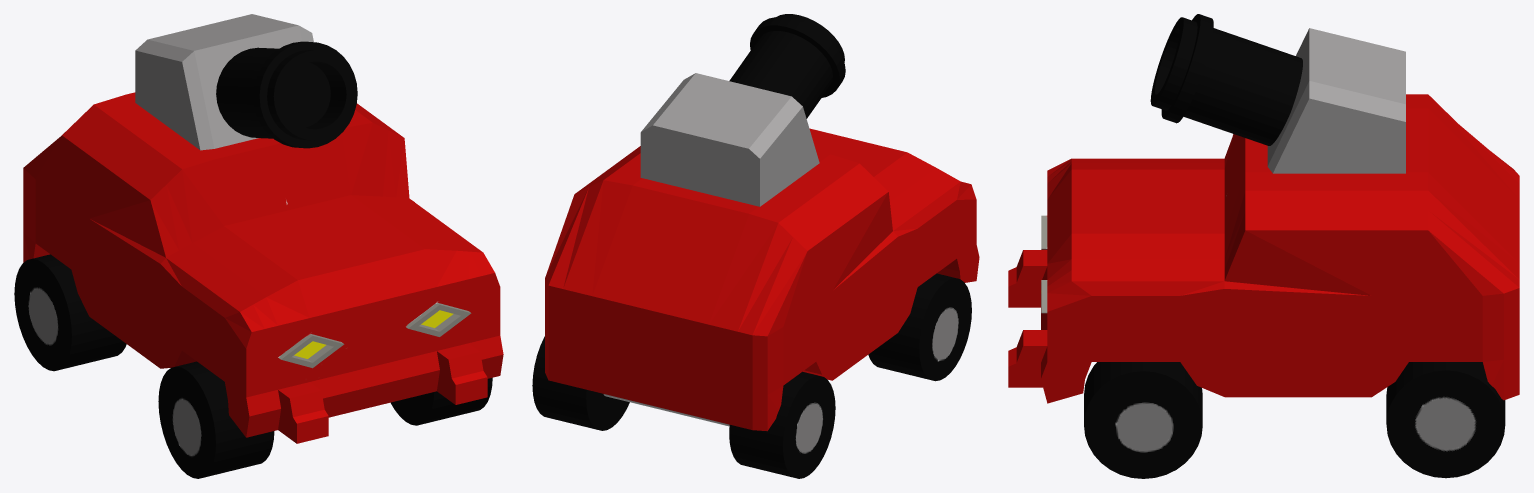
Rendered from player.obj.
3 views of the same model, side by side, from view 1: azimuth 30°, elevation 25°; view 2: azimuth 150°, elevation 25°; view 3: azimuth 270°, elevation 25° (orthographic). The views are drawn at different scales.
Parts seen in each view (by area): view 1: 立方体.004; view 2: 立方体.004; view 3: 立方体.004.
Boxes of the visible parts, x1,y1,x2,y2 form: 立方体.004: (14, 14, 503, 478); 立方体.004: (532, 14, 979, 478); 立方体.004: (1008, 14, 1519, 478).
Bounding box in the file's own units: 2.83 × 3.69 × 4.38.
